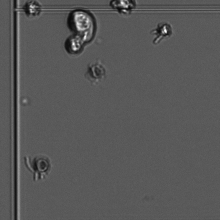Dead Cell: (26, 152, 59, 185), (84, 57, 112, 85)
Living Cell: (55, 7, 105, 57), (109, 1, 138, 28), (150, 20, 177, 47), (22, 1, 45, 23)
